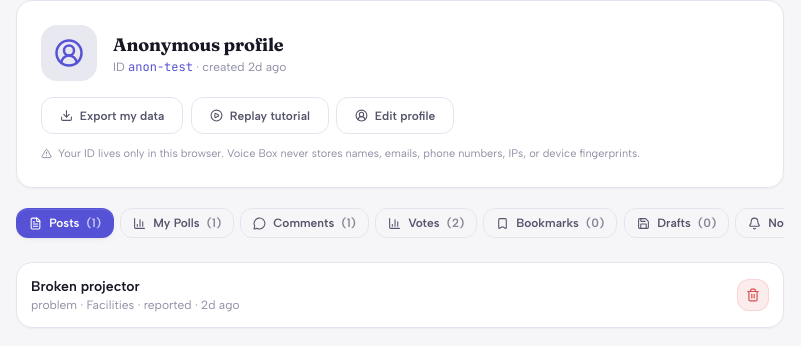
MyActivity — polls tab › lists my polls and offers a view link
Expected: the heading "Anonymous profile" is shown, [113, 31, 286, 59]
Click the button "My Polls (1)": (177, 223) [120, 208, 234, 238]
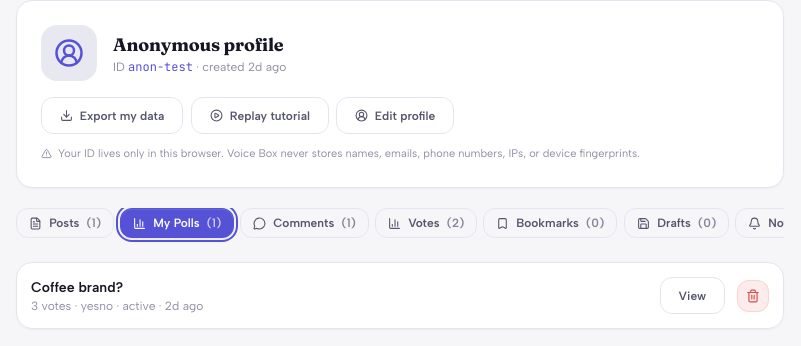
Now the text "Coffee brand?" is shown, box [31, 278, 123, 295]
Now the text "3 votes · yesno · active · 2d ago" is shown, box [31, 298, 203, 312]
